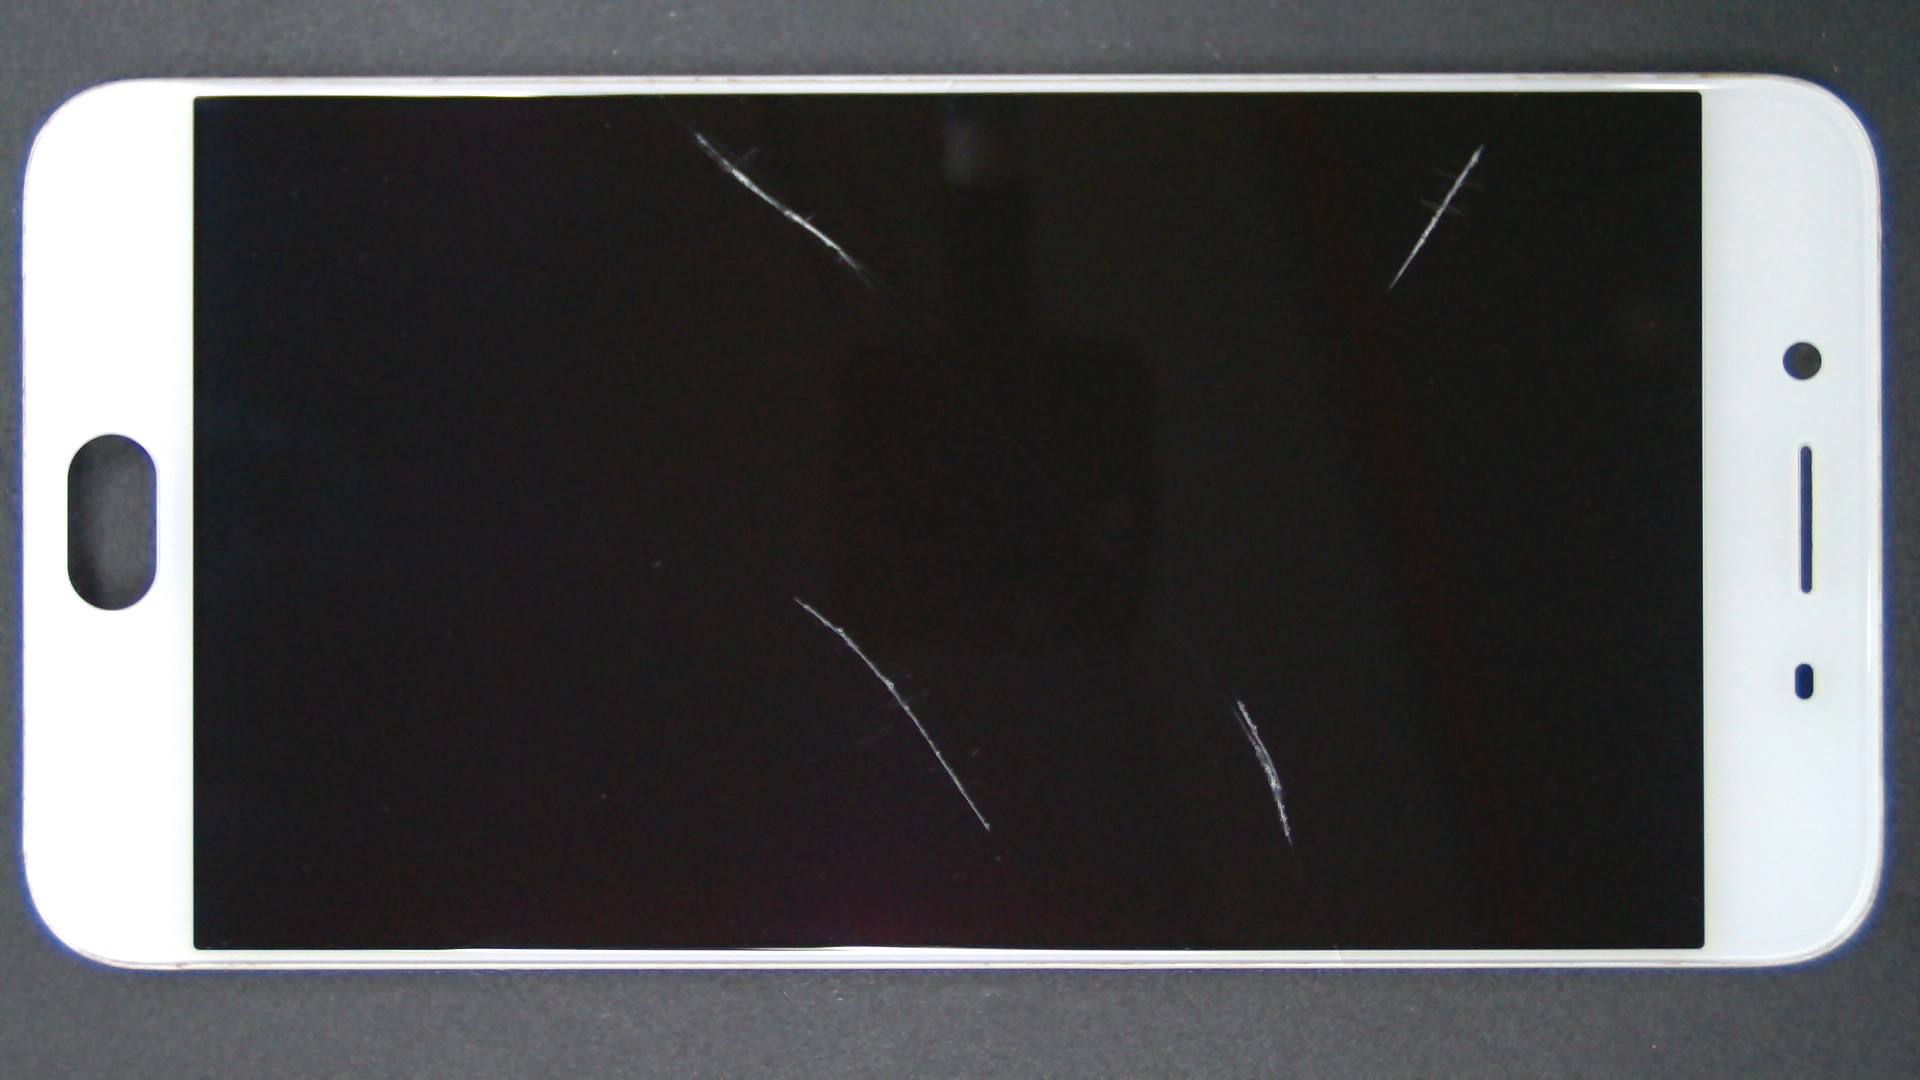defect: (794, 597, 989, 832), (694, 131, 856, 269), (1389, 146, 1484, 289), (1232, 698, 1292, 843)
